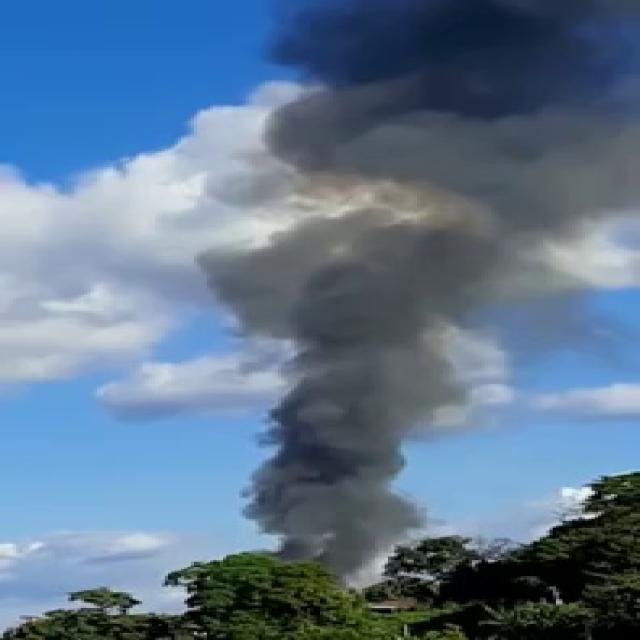Smoke: (150, 9, 598, 559)
